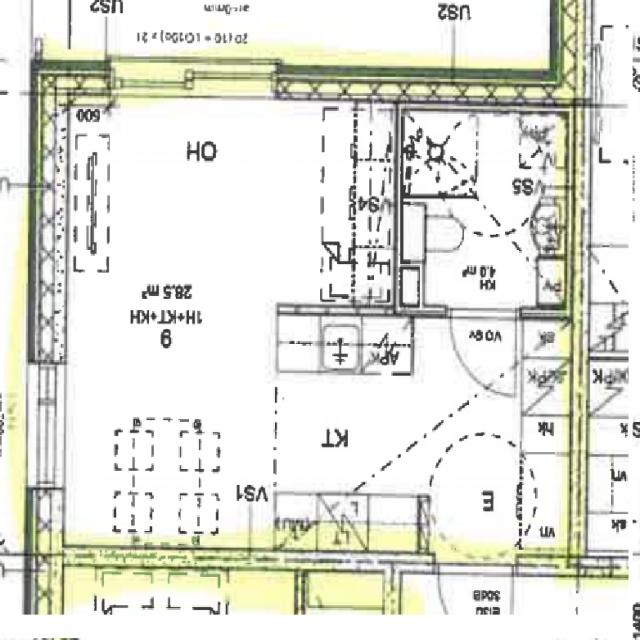door: (450, 305, 516, 393)
